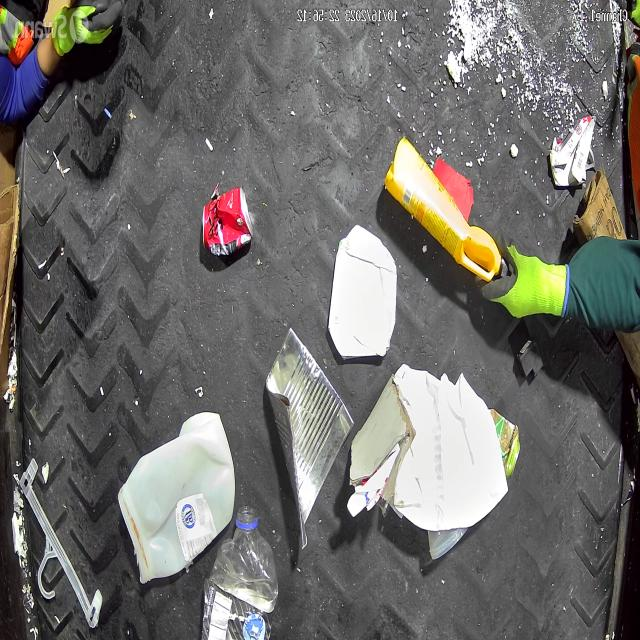can: (265, 324, 356, 552), (202, 185, 253, 256)
milk_jug: (118, 412, 236, 585)
non_white_jug: (383, 139, 508, 283)
plastic_bottle: (202, 506, 278, 640)
